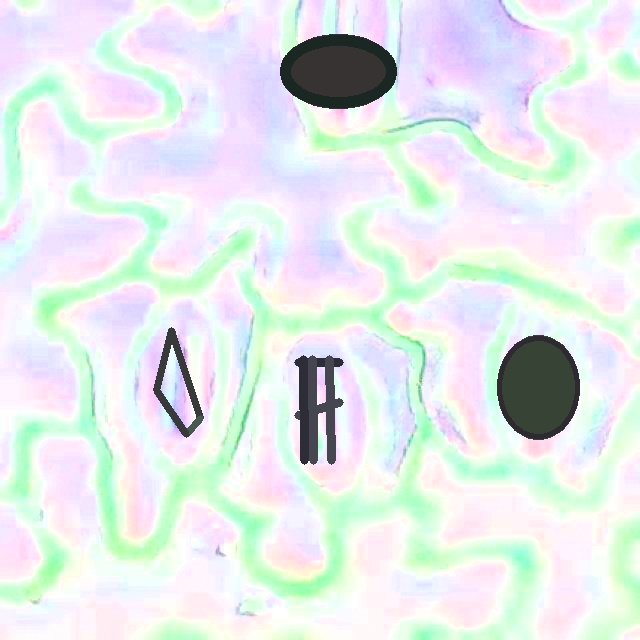open: (497, 335, 579, 439), (280, 34, 395, 108), (154, 327, 203, 437), (294, 355, 343, 464)
